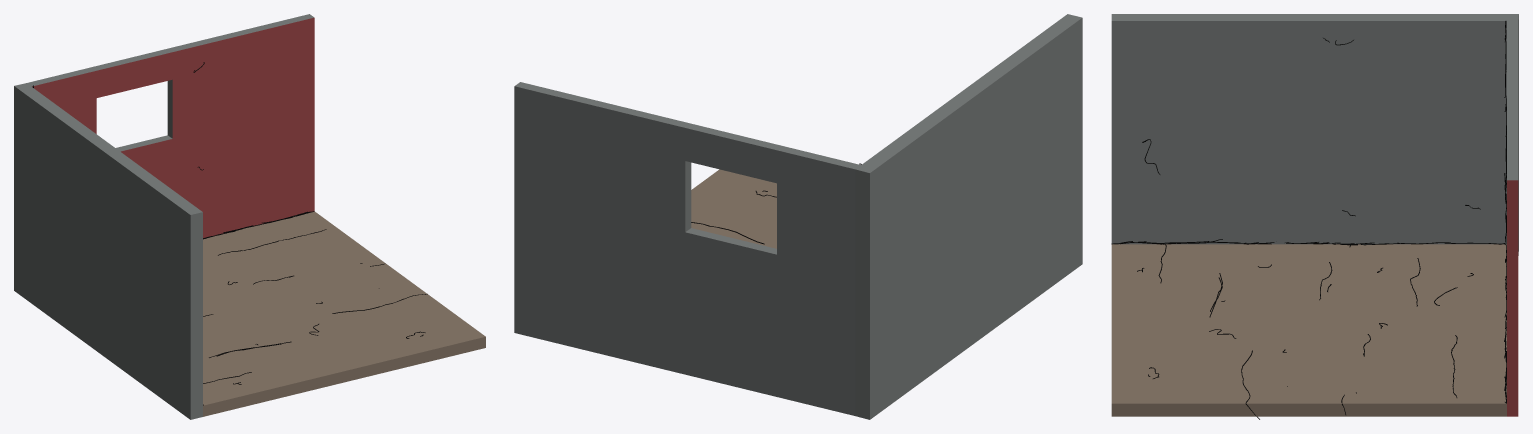
File: room.glb
3 renders of one model, left to right at view 1: azimuth 30°, elevation 25°; view 2: azimuth 150°, elevation 25°; view 3: azimuth 270°, elevation 25°, orthographic. The views are drawn at different scales.
Visible parts, largest first — view 1: room, lines_room; view 2: room; view 3: room, lines_room.
Boxes of the visible parts, x1,y1,x2,y2 form: room: (14, 14, 485, 419); lines_room: (32, 62, 427, 405); room: (514, 14, 1082, 419); room: (1111, 14, 1518, 416); lines_room: (1111, 21, 1506, 419).
Bounding box in the file's own units: 5.13 × 3.47 × 5.31.
